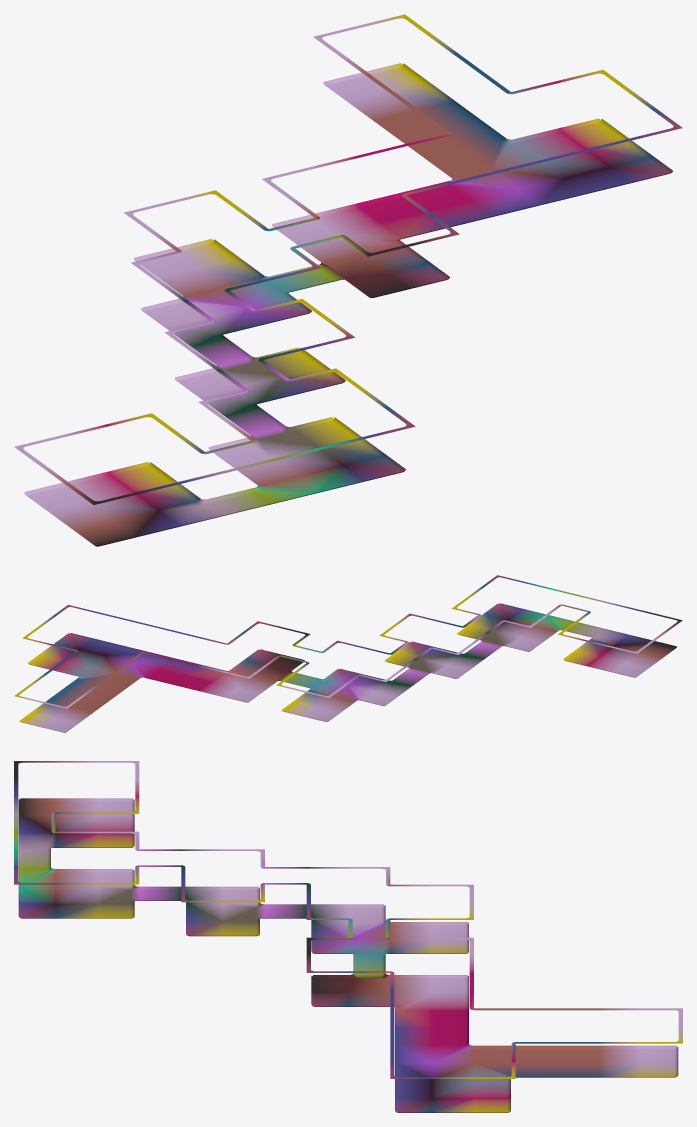
The model's file is sidefx_rizom_bridge_untitled_rizomuv_rectangularize1.fbx.
3 renders of one model, top to bottom at view 1: azimuth 30°, elevation 25°; view 2: azimuth 150°, elevation 25°; view 3: azimuth 270°, elevation 25°, orthographic. The views are drawn at different scales.
Visible parts, largest first — view 1: groupdelete1; view 2: groupdelete1; view 3: groupdelete1.
Part boxes in pixels (x1,y1,x2,y2): groupdelete1: [14, 14, 682, 546]; groupdelete1: [14, 575, 682, 732]; groupdelete1: [14, 761, 682, 1112].
Size of the model in its own units: 90 by 4.9 by 80.
